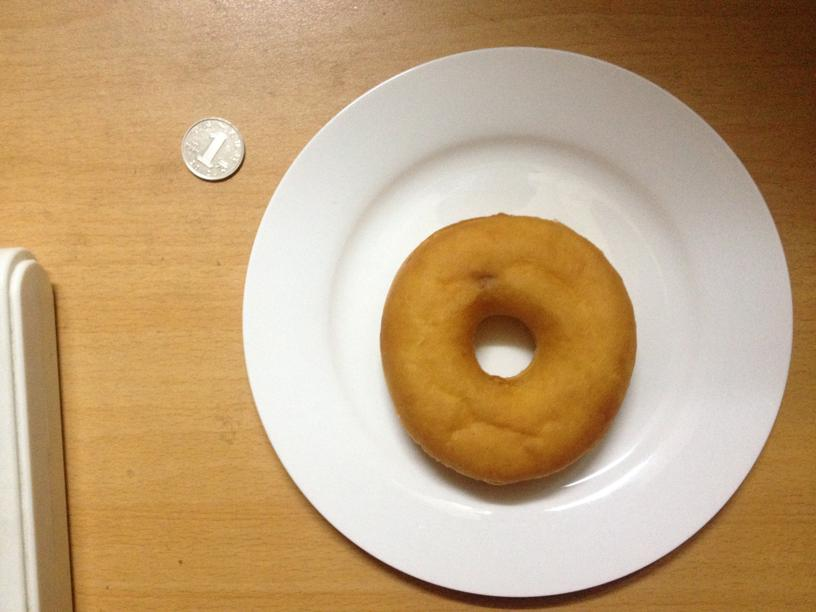coin: (180, 119, 247, 178)
doughnut: (375, 212, 639, 486)
